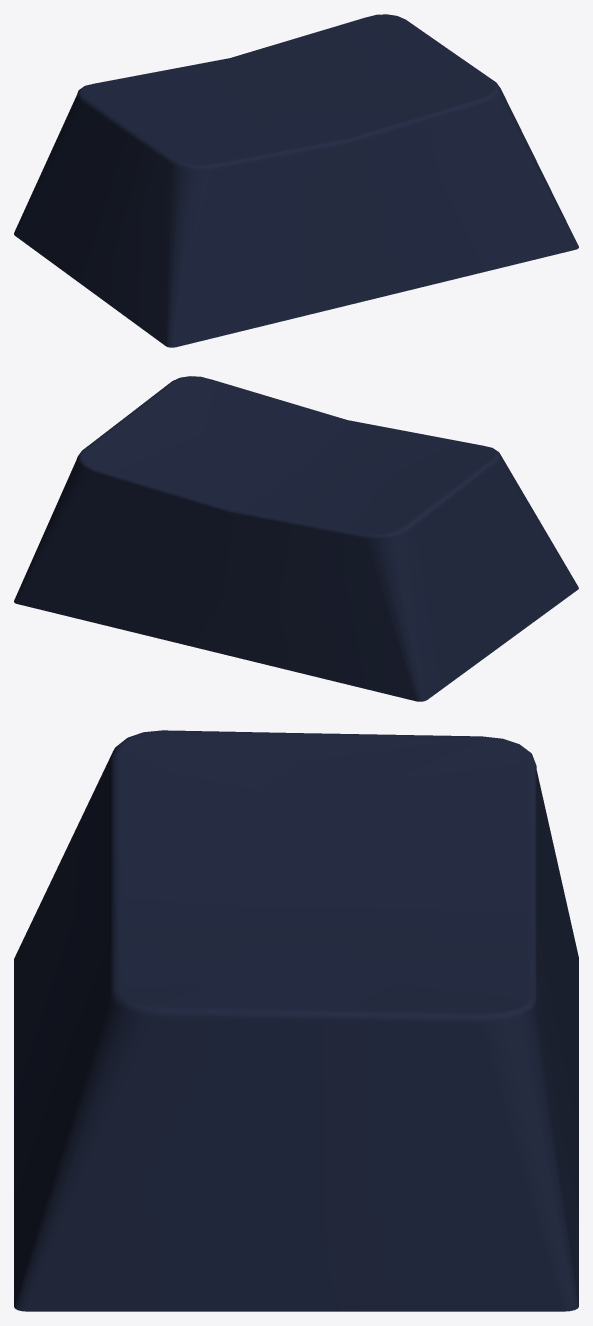
File: cherry125u.glb
The picture shows the model from 3 angles, top to bottom: view 1: azimuth 30°, elevation 25°; view 2: azimuth 150°, elevation 25°; view 3: azimuth 270°, elevation 25°; orthographic projection. The views are drawn at different scales.
Parts seen in each view (by area): view 1: R2_1.5U_Mesh; view 2: R2_1.5U_Mesh; view 3: R2_1.5U_Mesh.
Part boxes in pixels (x1,y1,x2,y2): R2_1.5U_Mesh: [14, 14, 578, 347]; R2_1.5U_Mesh: [14, 376, 578, 701]; R2_1.5U_Mesh: [14, 730, 578, 1311].
Bounding box in the file's own units: 0.0271 × 0.00926 × 0.018.
